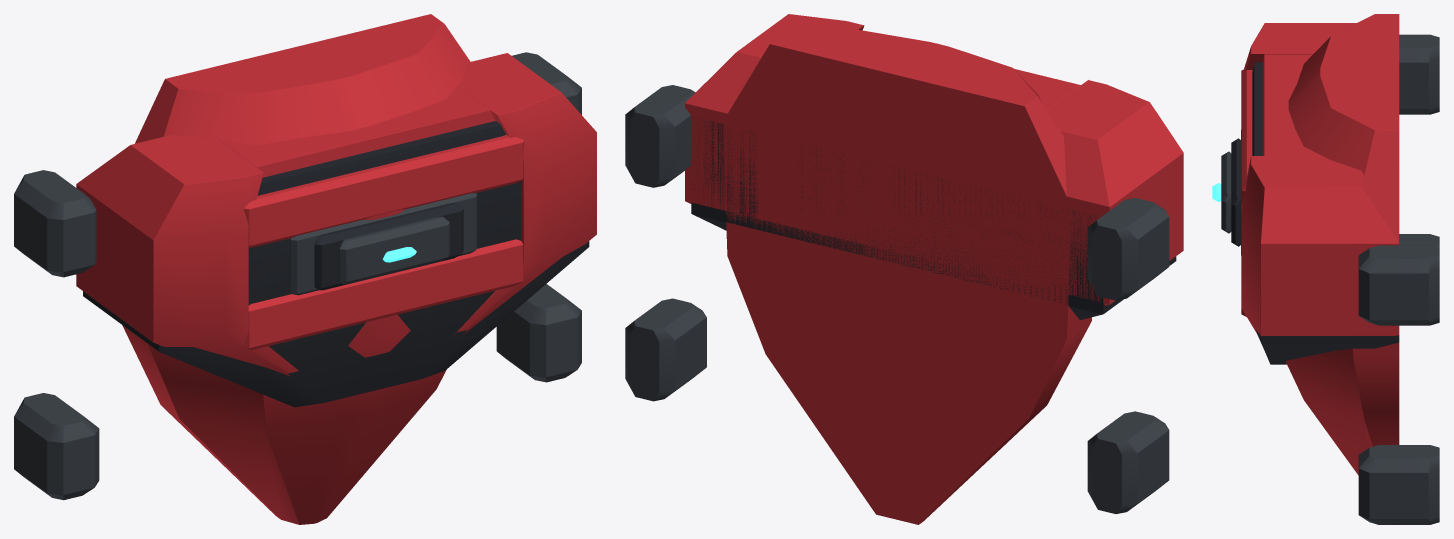
The model's file is UpperArmBack_Set09_Mantis.fbx.
The picture shows the model from 3 angles, left to right: view 1: azimuth 30°, elevation 25°; view 2: azimuth 150°, elevation 25°; view 3: azimuth 270°, elevation 25°; orthographic projection. The views are drawn at different scales.
Parts seen in each view (by area): view 1: UpperArmBack_Set09_Mantis; view 2: UpperArmBack_Set09_Mantis; view 3: UpperArmBack_Set09_Mantis.
Part boxes in pixels (<box>): UpperArmBack_Set09_Mantis: <box>14,14,596,524</box>; UpperArmBack_Set09_Mantis: <box>625,14,1183,524</box>; UpperArmBack_Set09_Mantis: <box>1212,14,1439,524</box>.
Bounding box in the file's own units: 0.41 × 0.34 × 0.1685.
